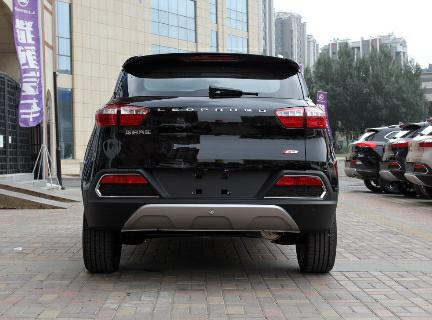猎豹汽车-猎豹CS9: (78, 47, 345, 282)
